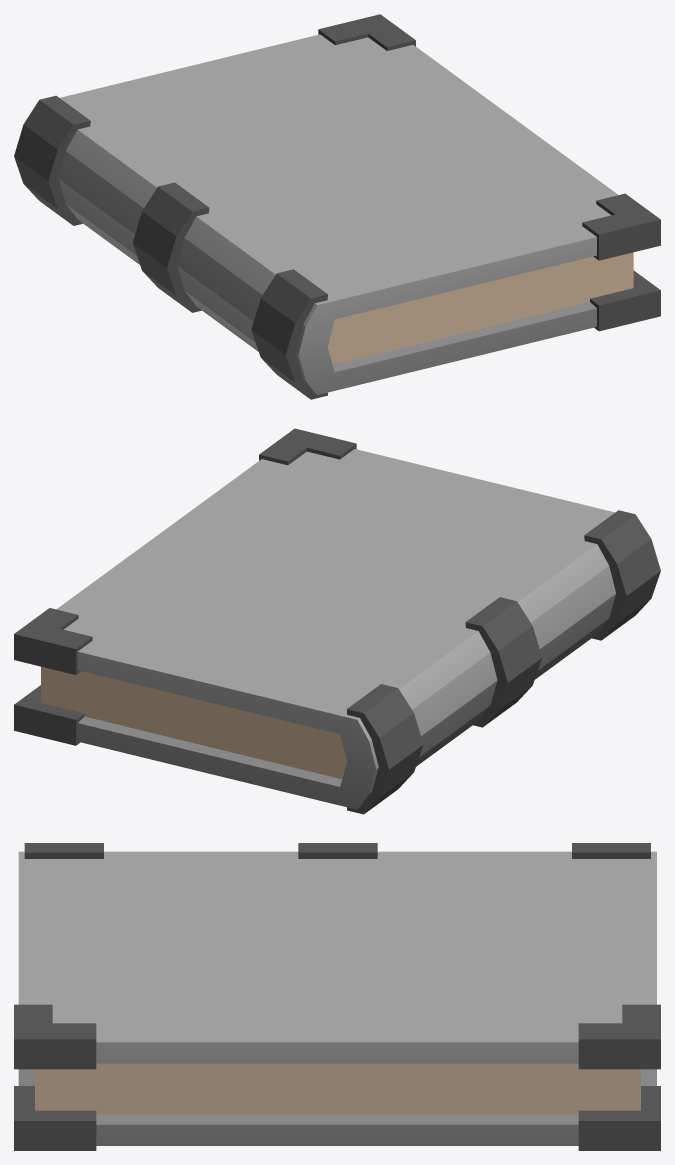
The model's file is Book_09.fbx.
3 renders of one model, top to bottom at view 1: azimuth 30°, elevation 25°; view 2: azimuth 150°, elevation 25°; view 3: azimuth 270°, elevation 25°, orthographic. The views are drawn at different scales.
Visible parts, largest first — view 1: Book_09; view 2: Book_09; view 3: Book_09.
Part boxes in pixels (x1,y1,x2,y2): Book_09: [14, 14, 660, 399]; Book_09: [14, 428, 660, 814]; Book_09: [14, 843, 660, 1150].
Bounding box in the file's own units: 21.17 × 5.52 × 27.76.
